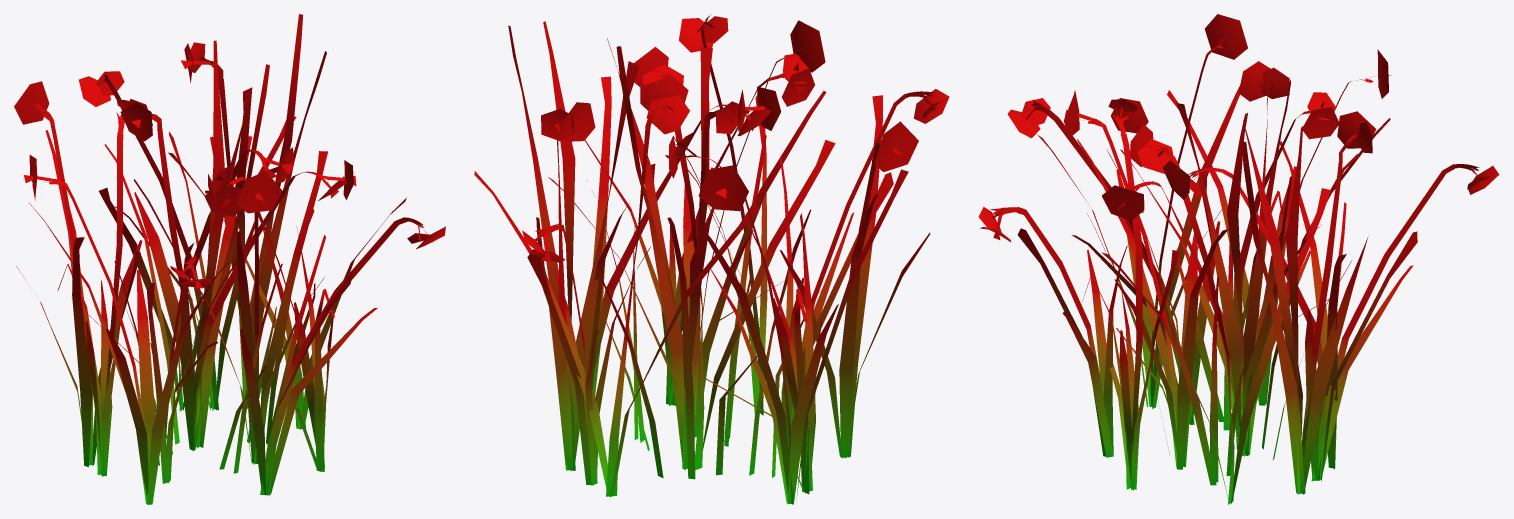
The model's file is Rush Daffodil_LOD5_Var10_wftgfjaia.fbx.
The picture shows the model from 3 angles, left to right: view 1: azimuth 30°, elevation 25°; view 2: azimuth 150°, elevation 25°; view 3: azimuth 270°, elevation 25°; orthographic projection. The views are drawn at different scales.
Visible parts, largest first — view 1: _k60n_var10_LOD5; view 2: _k60n_var10_LOD5; view 3: _k60n_var10_LOD5.
Boxes of the visible parts, x1,y1,x2,y2 form: _k60n_var10_LOD5: (14,14,445,504); _k60n_var10_LOD5: (474,15,949,504); _k60n_var10_LOD5: (978,14,1499,504).
Size of the model in its own units: 35.79 by 39.69 by 47.49.
